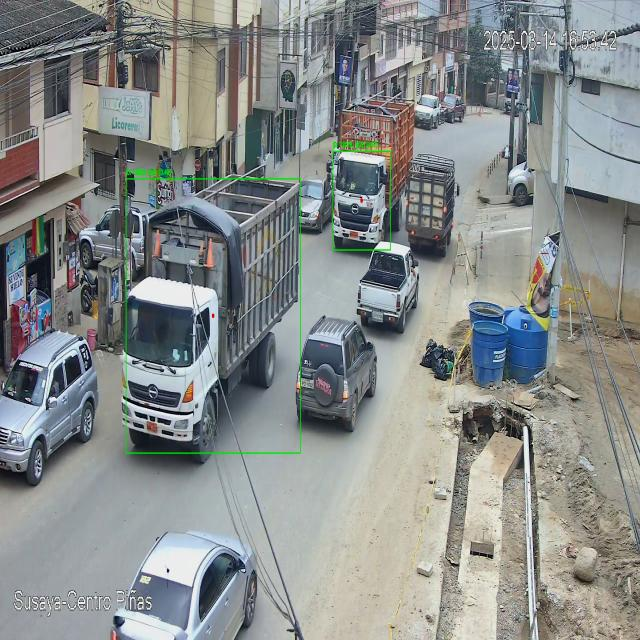CMT: (357, 241, 419, 334)
SED: (111, 532, 259, 640)
SUV: (296, 317, 376, 434)
TRUCK: (121, 180, 299, 458), (328, 96, 414, 252), (406, 158, 458, 256)
